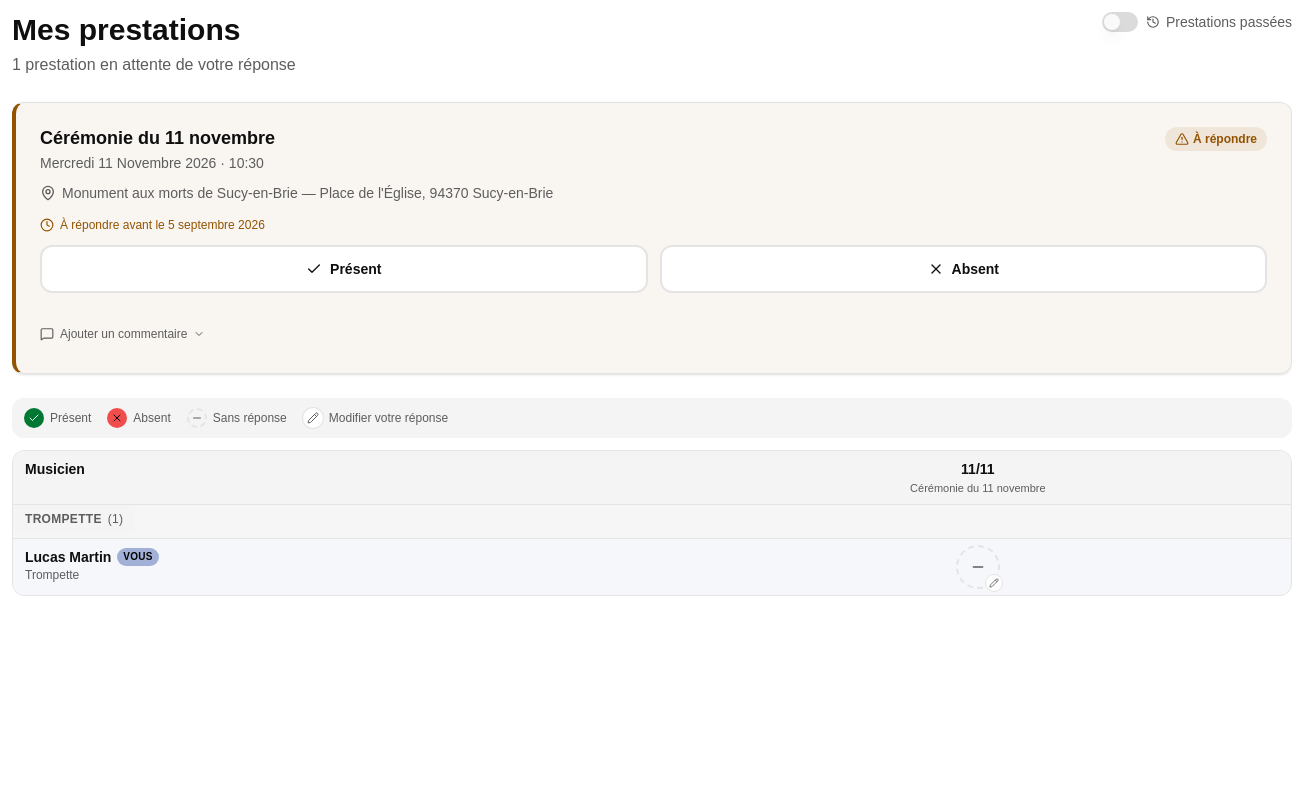
it: MusicianDisponibilites › charge les prestations passées via le filtre et désactive leurs contrôles
Expected: the table is shown, [13,451,1291,595]
Step 1. Click the checkbox labelled "Prestations passées" → (1120, 22), box [1102,12,1138,32]
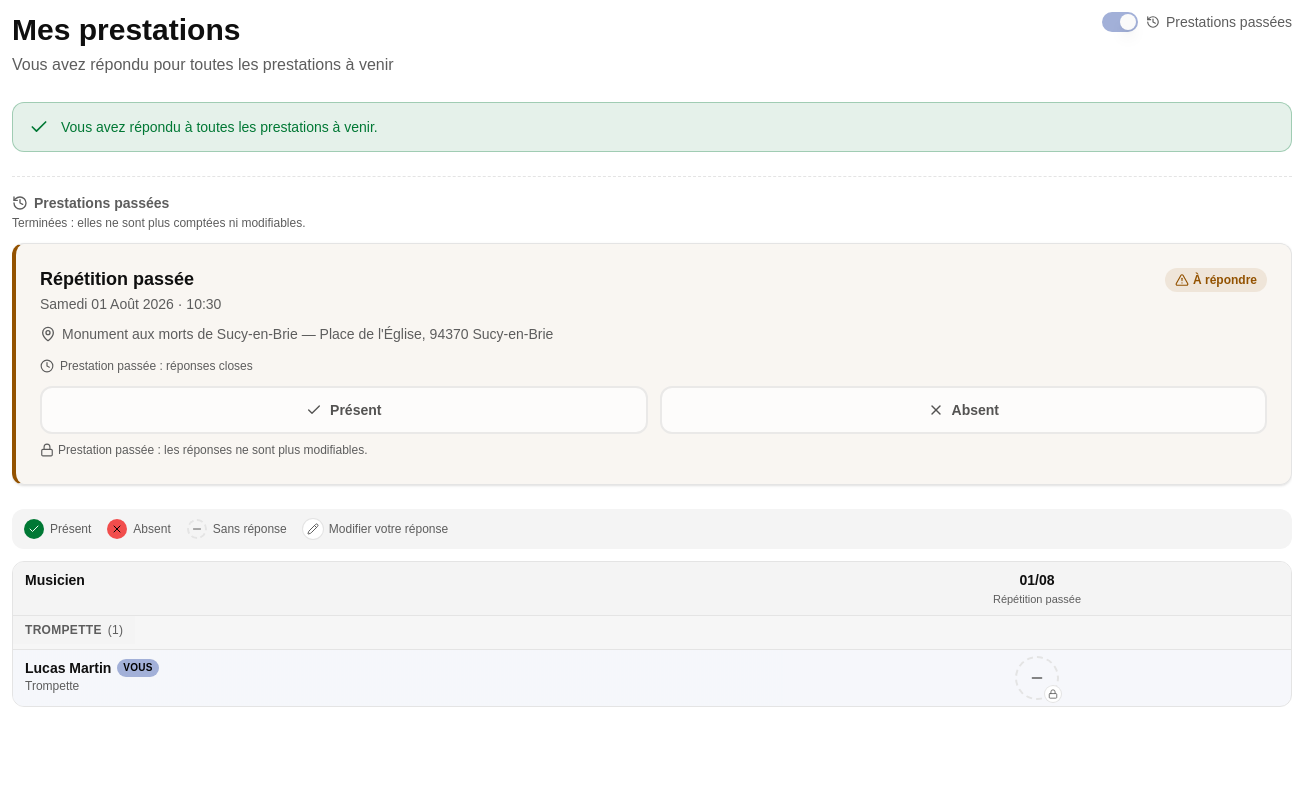
Expected: the heading "Répétition passée" is shown, [40,269,194,289]
Expected: the button "Présent" is disabled, [40,386,648,434]
Expected: the button "Absent" is disabled, [660,386,1267,434]
